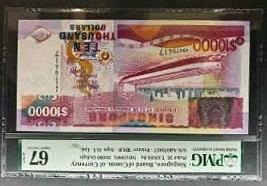10000SingaporeDollar: (19, 22, 249, 130)
